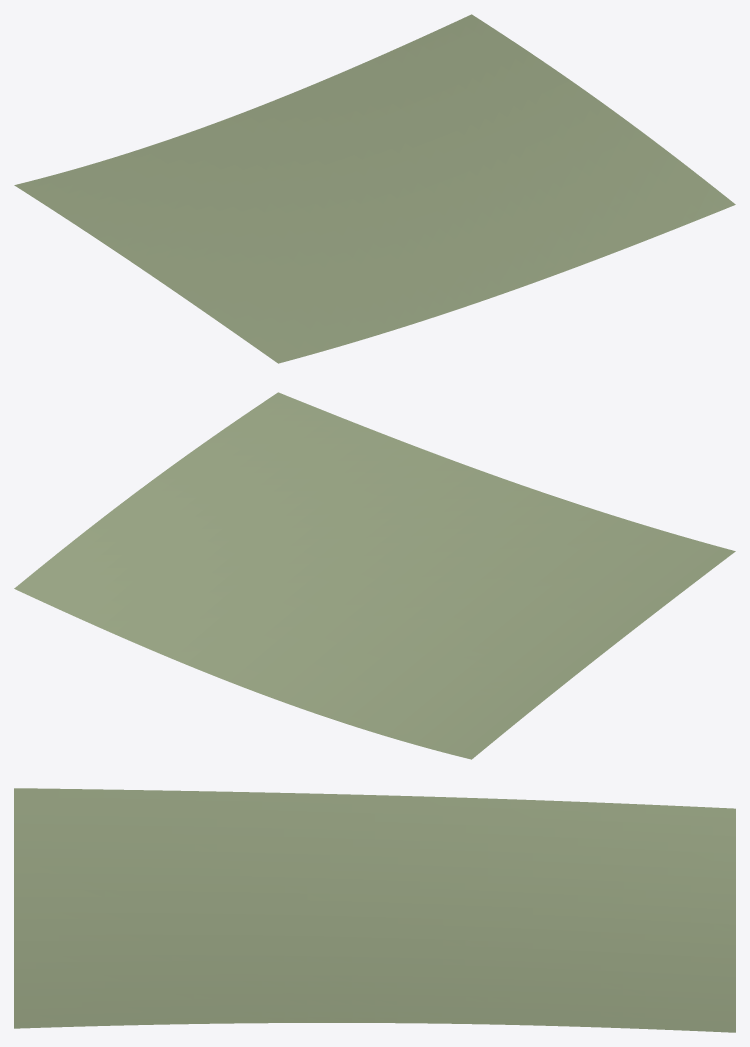
The model's file is desert-22-10.glb.
3 renders of one model, top to bottom at view 1: azimuth 30°, elevation 25°; view 2: azimuth 150°, elevation 25°; view 3: azimuth 270°, elevation 25°, orthographic. The views are drawn at different scales.
Visible parts, largest first — view 1: desert-22-10; view 2: desert-22-10; view 3: desert-22-10.
Part boxes in pixels (x1,y1,x2,y2): desert-22-10: [14, 14, 735, 363]; desert-22-10: [14, 392, 735, 759]; desert-22-10: [14, 788, 735, 1032].
Bounding box in the file's own units: 512 × 71.07 × 512.
